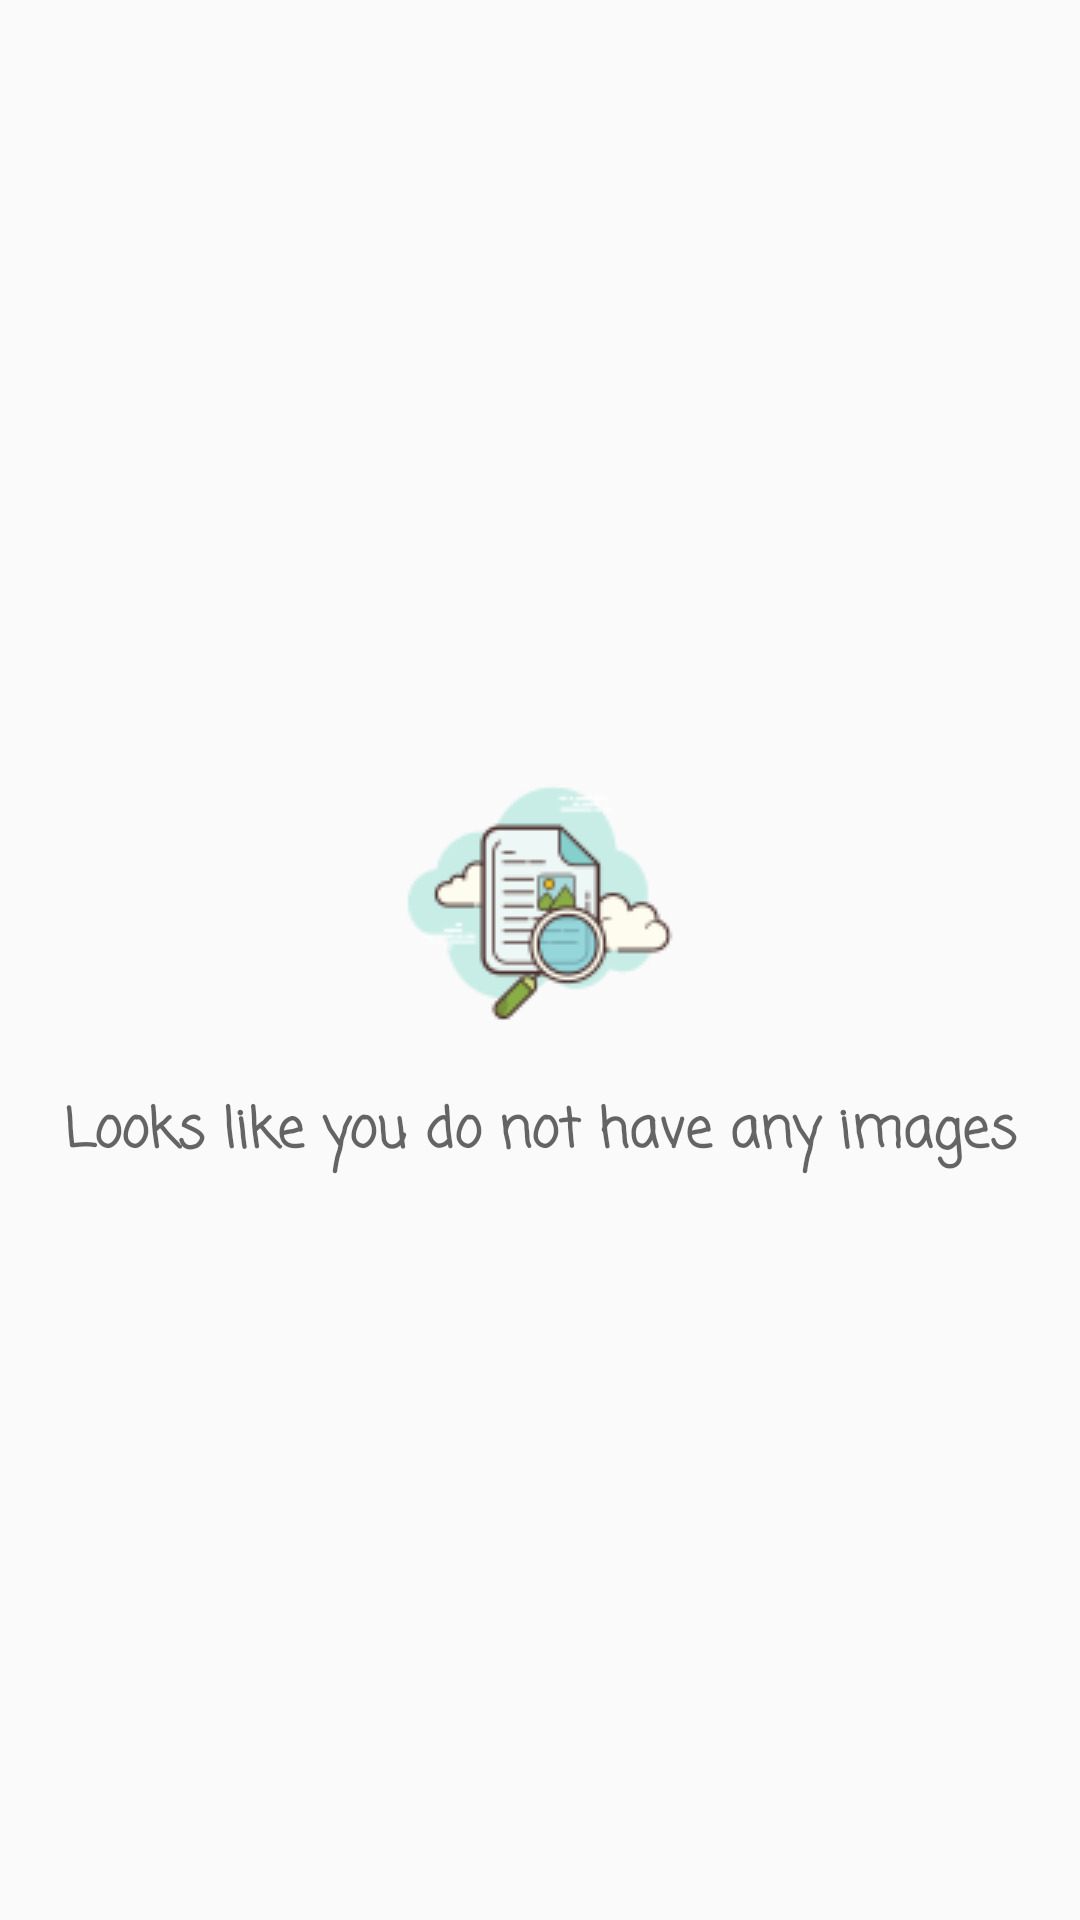

Named icons in this screenshot (1080*1920) and their bounding boxes, [x1=x1, y1=y1, x2=x2, y2=y2]:
empty: [x1=408, y1=788, x2=672, y2=1020]
